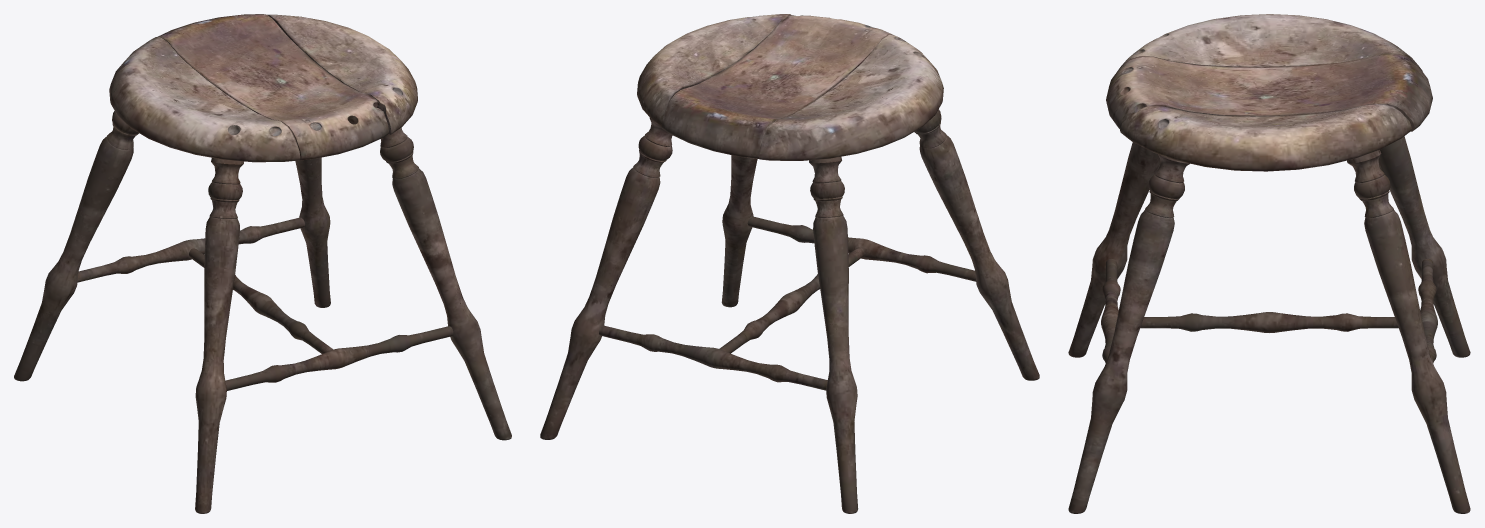
Rendered from wooden_stool_01.glb.
The picture shows the model from 3 angles, left to right: view 1: azimuth 30°, elevation 25°; view 2: azimuth 150°, elevation 25°; view 3: azimuth 270°, elevation 25°; orthographic projection. The views are drawn at different scales.
Parts seen in each view (by area): view 1: wooden_stool_01; view 2: wooden_stool_01; view 3: wooden_stool_01.
Boxes of the visible parts, x1,y1,x2,y2 form: wooden_stool_01: (14,14,511,513); wooden_stool_01: (540,14,1039,513); wooden_stool_01: (1068,14,1470,513).
Bounding box in the file's own units: 0.4254 × 0.4373 × 0.4424.
1 material, 1 textured.
